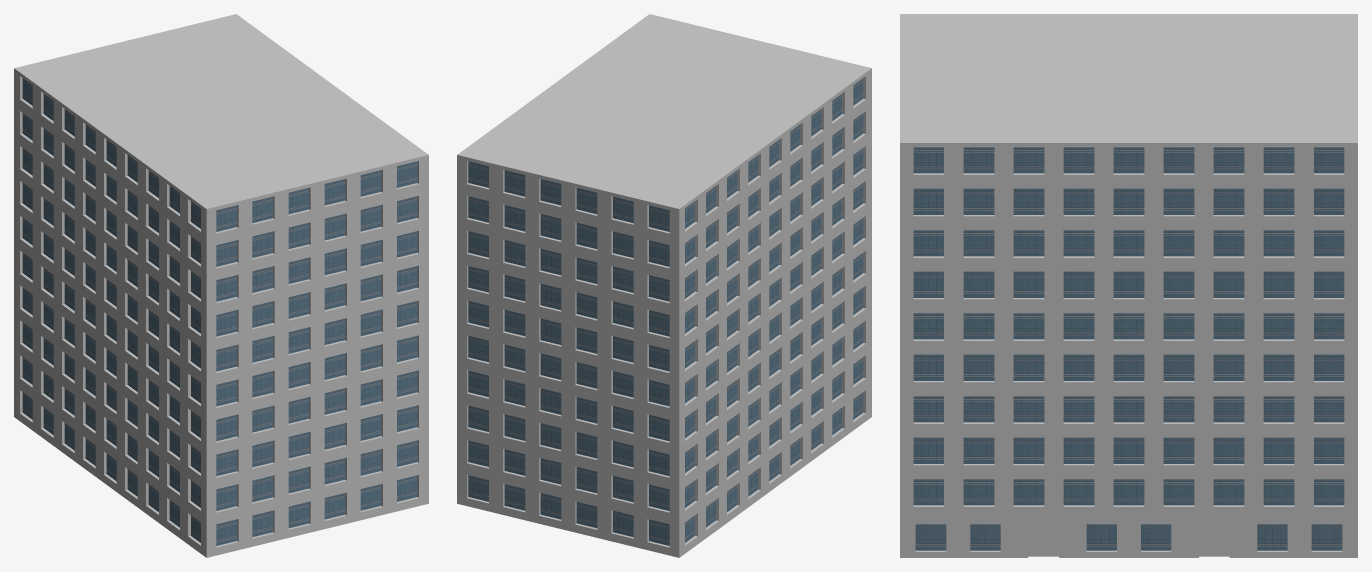
3 views of the same model, side by side, from view 1: azimuth 30°, elevation 25°; view 2: azimuth 150°, elevation 25°; view 3: azimuth 270°, elevation 25° (orthographic). The views are drawn at different scales.
Visible parts, largest first — view 1: Brick00RedGreenTiling2, HighRise06EmissionOff, RoofConcretebare, HighRise06EmissionOn; view 2: Brick00RedGreenTiling2, HighRise06EmissionOff, RoofConcretebare, HighRise06EmissionOn; view 3: Brick00RedGreenTiling2, HighRise06EmissionOff, RoofConcretebare, HighRise06EmissionOn, Door07EmissionOn, Door07EmissionOff.
Boxes of the visible parts, x1=… form: Brick00RedGreenTiling2: x1=14, y1=68, x2=428, y2=557; HighRise06EmissionOff: x1=22, y1=78, x2=417, y2=545; RoofConcretebare: x1=14, y1=14, x2=428, y2=208; HighRise06EmissionOn: x1=64, y1=170, x2=345, y2=467; Brick00RedGreenTiling2: x1=457, y1=68, x2=871, y2=557; HighRise06EmissionOff: x1=468, y1=78, x2=863, y2=545; RoofConcretebare: x1=457, y1=14, x2=871, y2=208; HighRise06EmissionOn: x1=468, y1=94, x2=842, y2=466; Brick00RedGreenTiling2: x1=900, y1=143, x2=1357, y2=557; HighRise06EmissionOff: x1=913, y1=147, x2=1344, y2=550; RoofConcretebare: x1=900, y1=14, x2=1357, y2=142; HighRise06EmissionOn: x1=963, y1=271, x2=1344, y2=505; Door07EmissionOn: x1=1028, y1=527, x2=1058, y2=556; Door07EmissionOff: x1=1199, y1=527, x2=1229, y2=556.
Bounding box in the file's own units: 2000 × 3000 × 3000.
